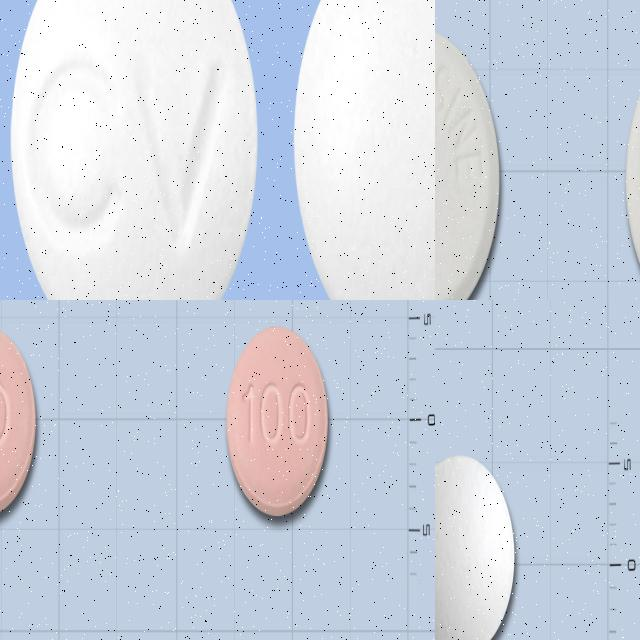Flomox: (226, 326, 329, 516), (0, 325, 37, 517)
Jeil Cravit: (9, 0, 259, 300), (293, 0, 435, 300)
Megarokshin: (435, 454, 515, 640)
Prinosine500mg: (435, 25, 502, 300)
